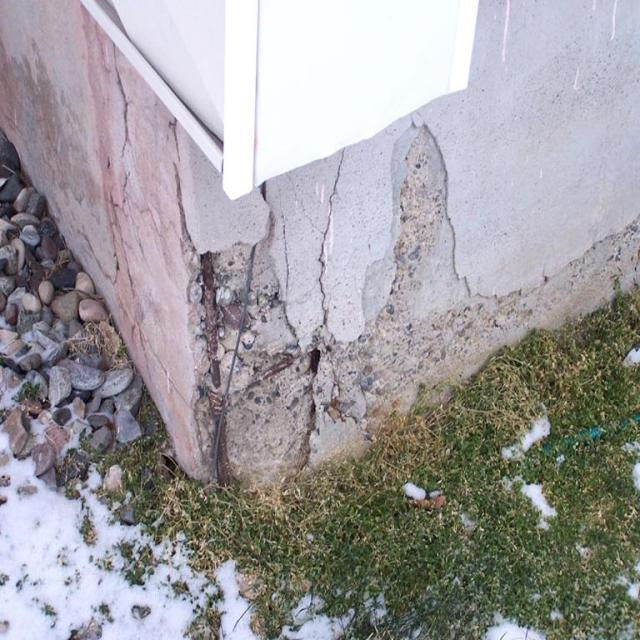Rebar: (188, 136, 639, 485)
horizontal crack: (125, 198, 182, 242)
multi-branched crack: (35, 192, 167, 366)
vertical crack: (89, 43, 142, 207), (308, 146, 353, 339), (164, 107, 201, 256)
